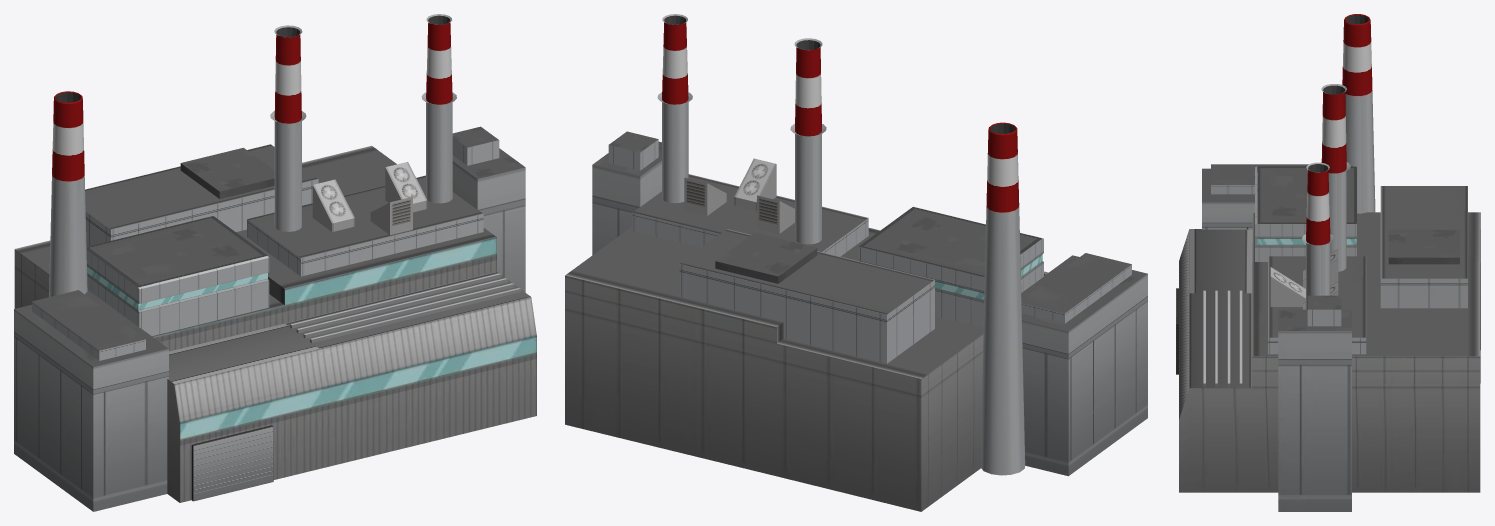
File: industrial_power_plant.glb
3 renders of one model, left to right at view 1: azimuth 30°, elevation 25°; view 2: azimuth 150°, elevation 25°; view 3: azimuth 270°, elevation 25°, orthographic. The views are drawn at different scales.
Parts seen in each view (by area): view 1: ind:p_plant; view 2: ind:p_plant; view 3: ind:p_plant.
Boxes of the visible parts, left/top/right/bottom form: ind:p_plant: left=14, top=14, right=536, bottom=511; ind:p_plant: left=565, top=14, right=1147, bottom=511; ind:p_plant: left=1176, top=14, right=1480, bottom=511.
Size of the model in its own units: 48.08 by 35.12 by 29.35.
Materials: 1 (1 with a texture image).
